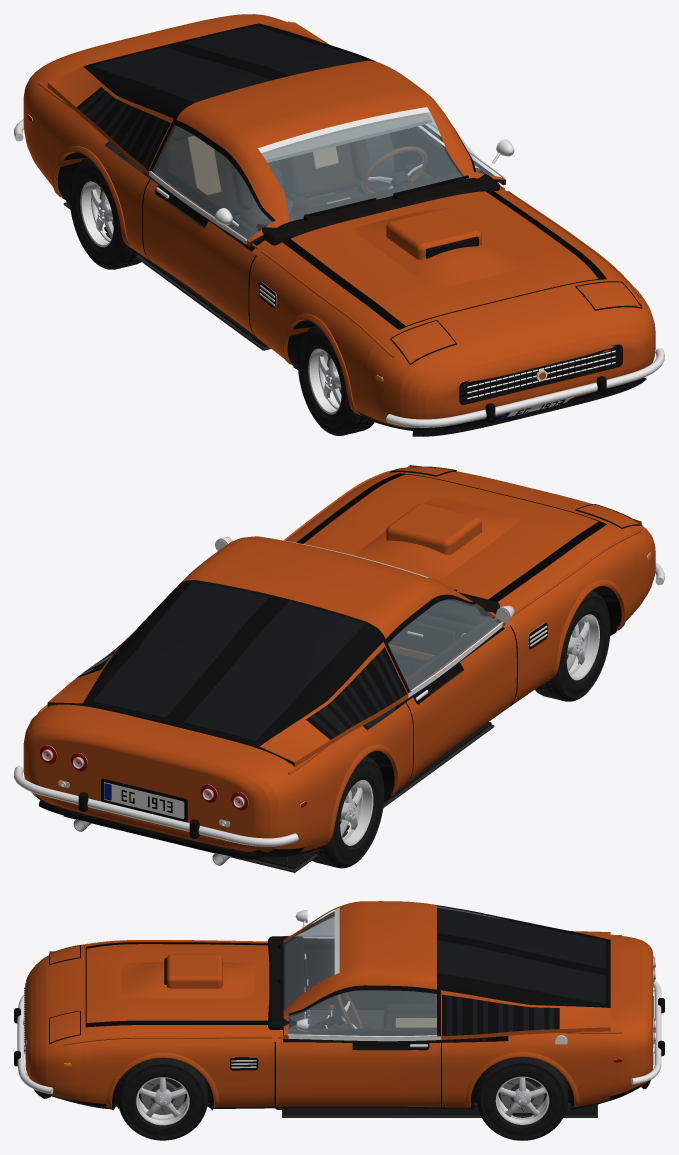
File: ventura_gt.glb
3 views of the same model, one above another, from view 1: azimuth 30°, elevation 25°; view 2: azimuth 150°, elevation 25°; view 3: azimuth 270°, elevation 25° (orthographic). The views are drawn at different scales.
Visible parts, largest first — view 1: ventura_gt, door_R, hood, hatch, seat_driver, hood_bulge, wheel_RR, wheel_FR, seat_passenger, hood_scoop, door_card_L, door_card_R (+6 smaller); view 2: ventura_gt, hatch, door_R, hood, hood_bulge, wheel_FR, wheel_RR, hood_scoop, door_card_R, dash_glovebox, sound_deadening, carpets (+1 smaller); view 3: ventura_gt, door_L, hatch, hood, wheel_RL, wheel_FL, hood_bulge, door_card_R, hood_scoop, door_card_L, carpets, seat_passenger (+5 smaller).
Part boxes in pixels (<box>): ventura_gt: <box>14,14,664,436</box>; door_R: <box>143,119,274,335</box>; hood: <box>290,191,598,325</box>; hatch: <box>83,23,375,119</box>; seat_driver: <box>279,139,381,212</box>; hood_bulge: <box>352,208,522,288</box>; wheel_RR: <box>69,157,141,269</box>; wheel_FR: <box>298,325,374,435</box>; seat_passenger: <box>157,126,264,227</box>; hood_scoop: <box>386,208,481,259</box>; door_card_L: <box>395,126,460,182</box>; door_card_R: <box>167,169,262,251</box>; ventura_gt: <box>14,470,664,865</box>; hatch: <box>83,580,385,748</box>; door_R: <box>383,594,516,782</box>; hood: <box>303,474,597,599</box>; hood_bulge: <box>356,497,519,578</box>; wheel_FR: <box>535,591,610,701</box>; wheel_RR: <box>312,755,384,868</box>; hood_scoop: <box>386,503,481,554</box>; door_card_R: <box>395,617,491,709</box>; dash_glovebox: <box>390,621,454,652</box>; sound_deadening: <box>64,724,494,872</box>; carpets: <box>256,722,491,869</box>; ventura_gt: <box>14,901,664,1110</box>; door_L: <box>276,985,440,1107</box>; hatch: <box>437,905,610,1007</box>; hood: <box>86,944,269,1022</box>; wheel_RL: <box>476,1057,568,1140</box>; wheel_FL: <box>118,1057,207,1140</box>; hood_bulge: <box>121,962,255,997</box>; door_card_R: <box>304,940,434,1009</box>; hood_scoop: <box>164,954,222,988</box>; door_card_L: <box>286,1028,434,1049</box>; carpets: <box>283,1037,596,1115</box>; seat_passenger: <box>383,1004,444,1042</box>.
Bounding box in the file's own units: 1.91 × 1.25 × 4.62.
58 materials, 7 textured.
